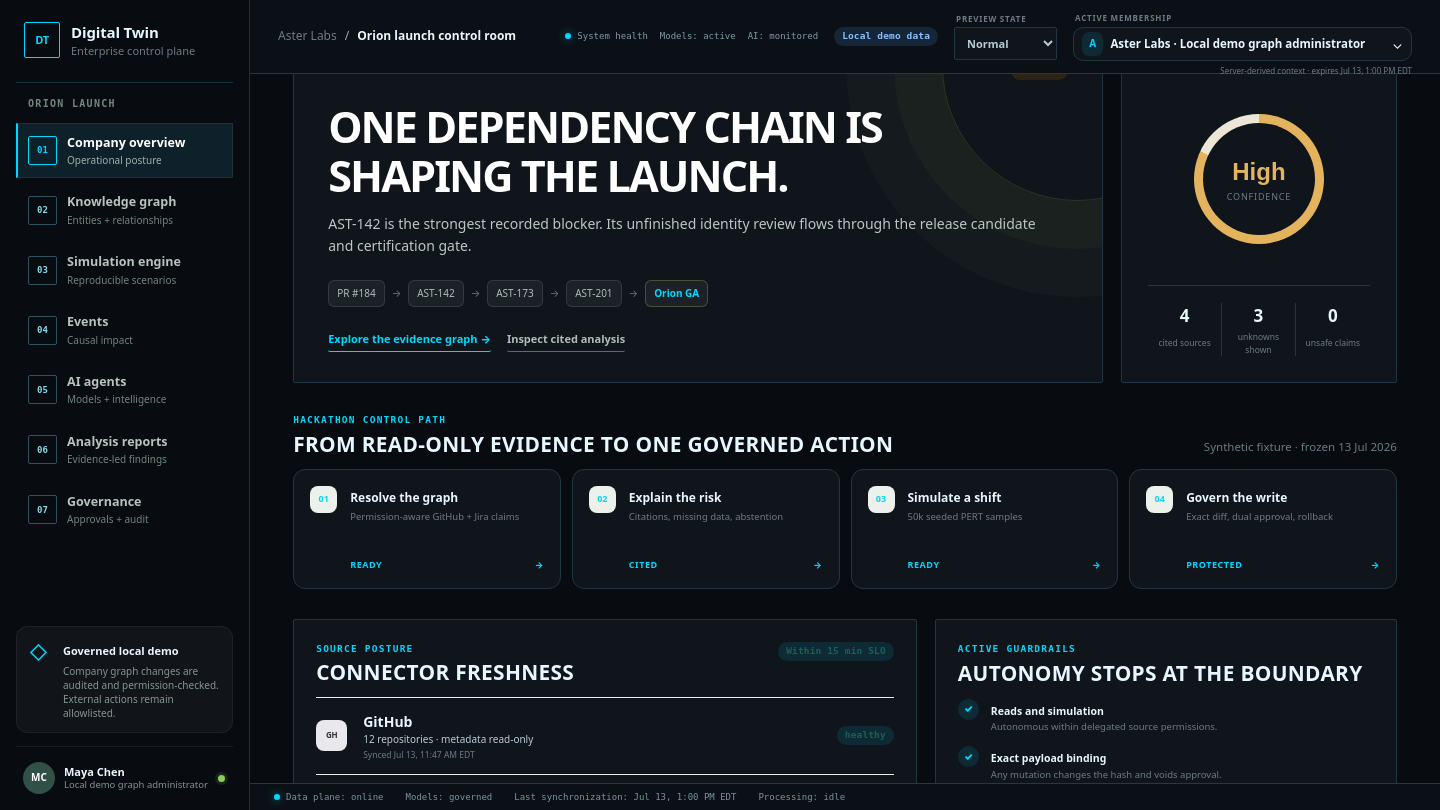
Test: DigitalTwinApp H1 journey › exposes deterministic loading, empty, error, stale, and revoked demo states
The width and height of the screenshot is (1440, 810).
(page scrolled)
Expected: the heading "One dependency chain is shaping the launch." is shown, [328, 97, 882, 206]
Step 1. Select "Empty" in the dropdown named "Preview interface state" → point(1006, 44), box [954, 27, 1057, 60]
(page scrolled)
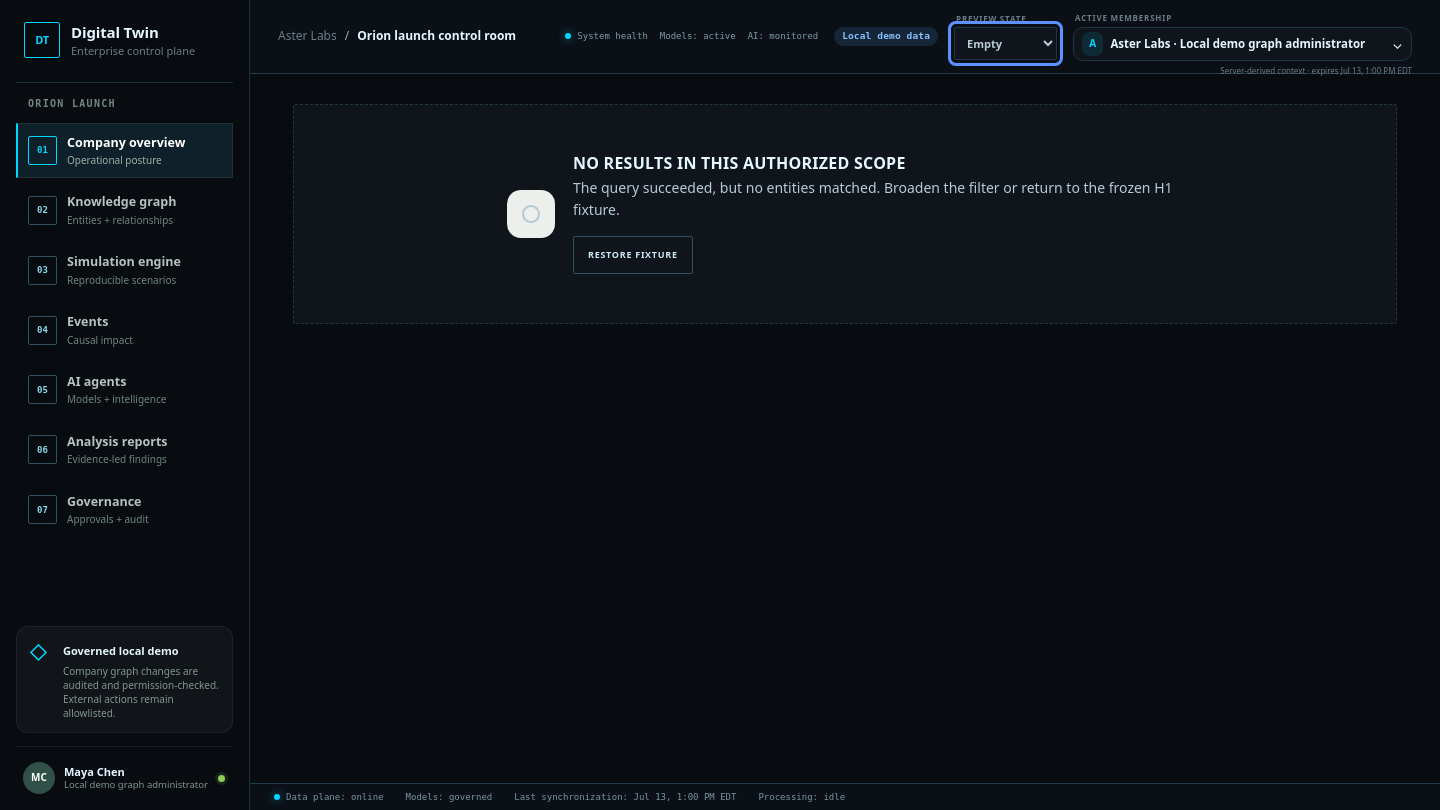
Expected: the heading "No results in this authorized scope" is shown, [573, 152, 906, 174]
Step 2. Select "Error" in the dropdown named "Preview interface state" → point(1006, 44), box [954, 27, 1057, 60]
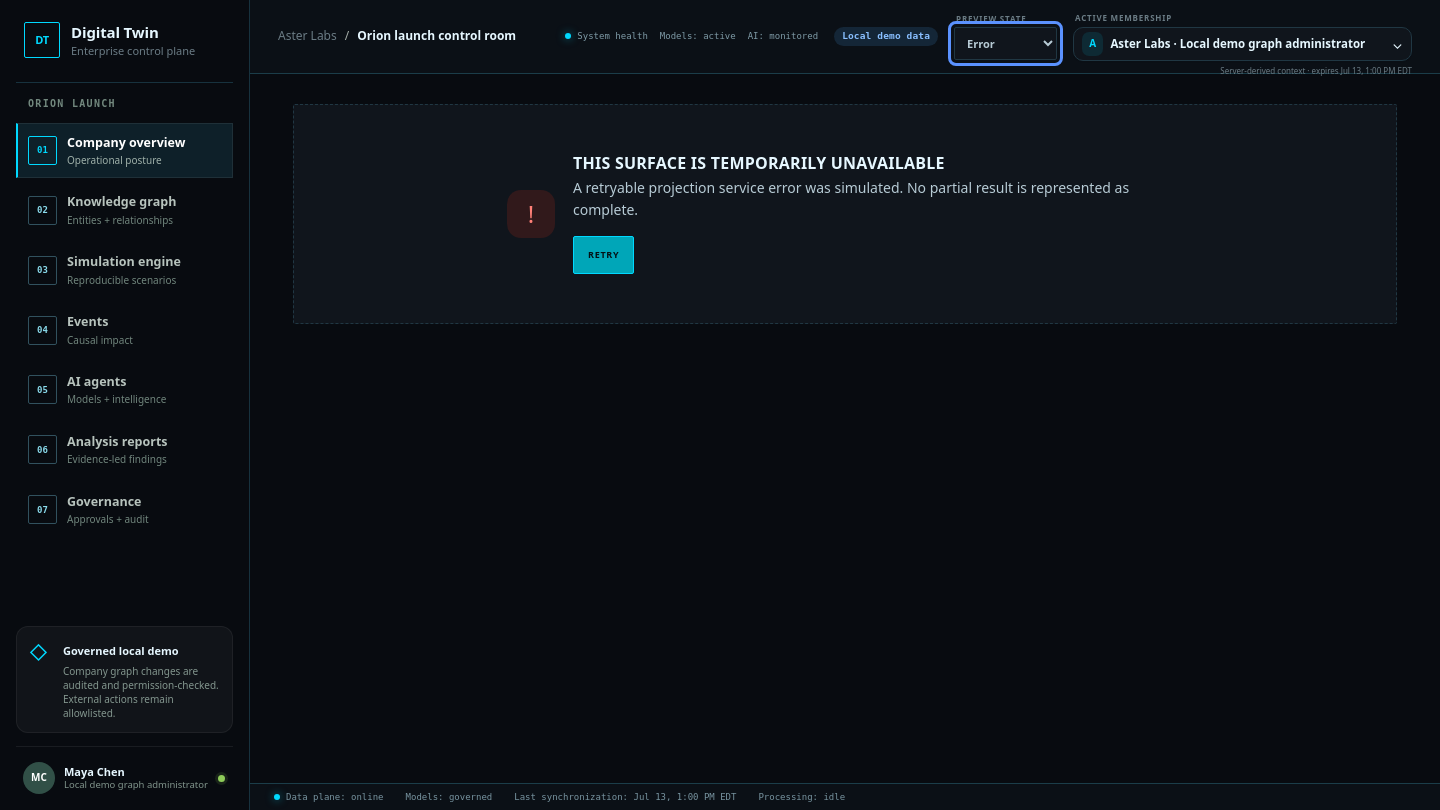
Expected: the heading "This surface is temporarily unavailable" is shown, [573, 152, 945, 174]
Step 3. Select "Stale" in the dropdown named "Preview interface state" → point(1006, 44), box [954, 27, 1057, 60]
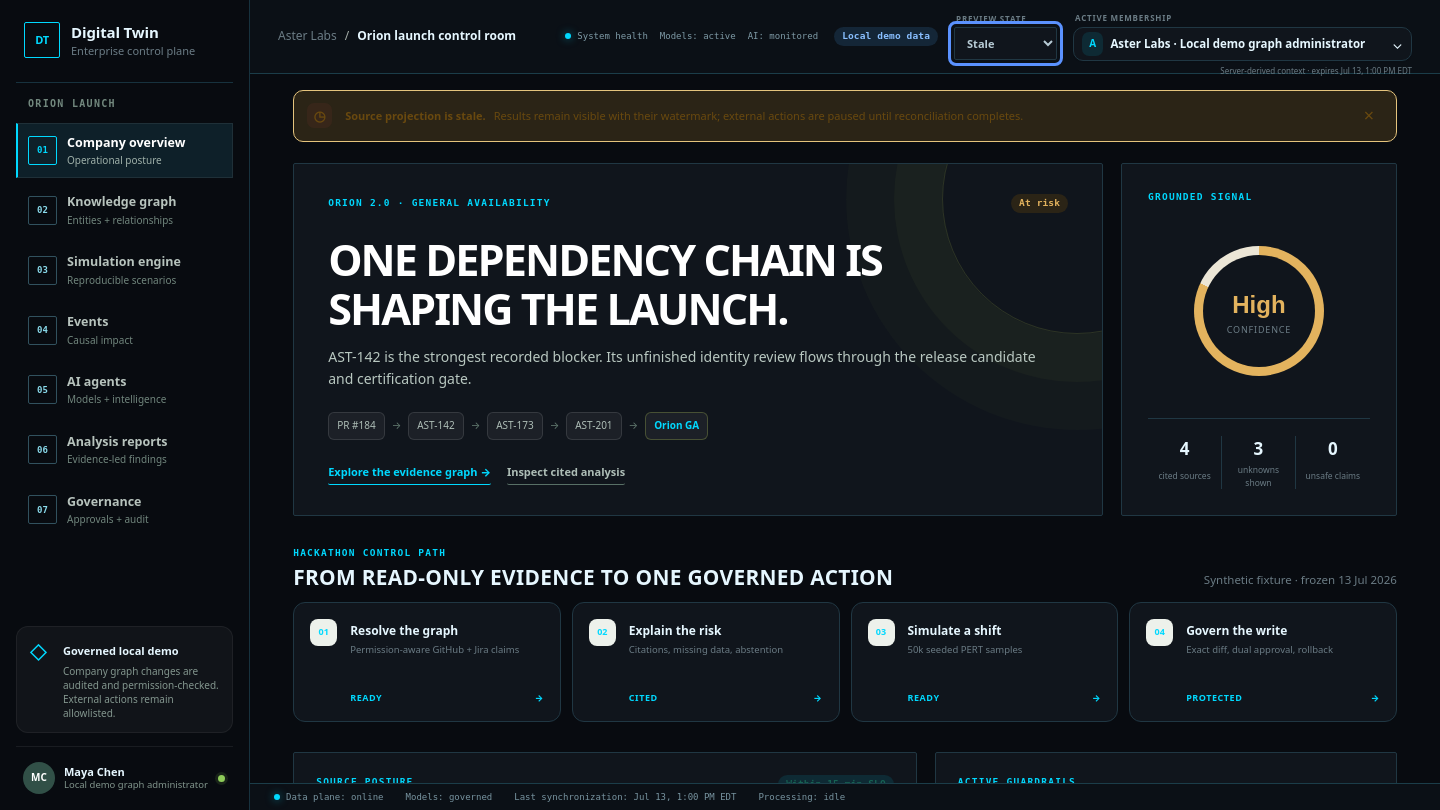
Expected: the text "Source projection is stale." is shown, [345, 107, 486, 124]
Step 4. Select "Revoked" in the dropdown named "Preview interface state" → point(1006, 44), box [954, 27, 1057, 60]
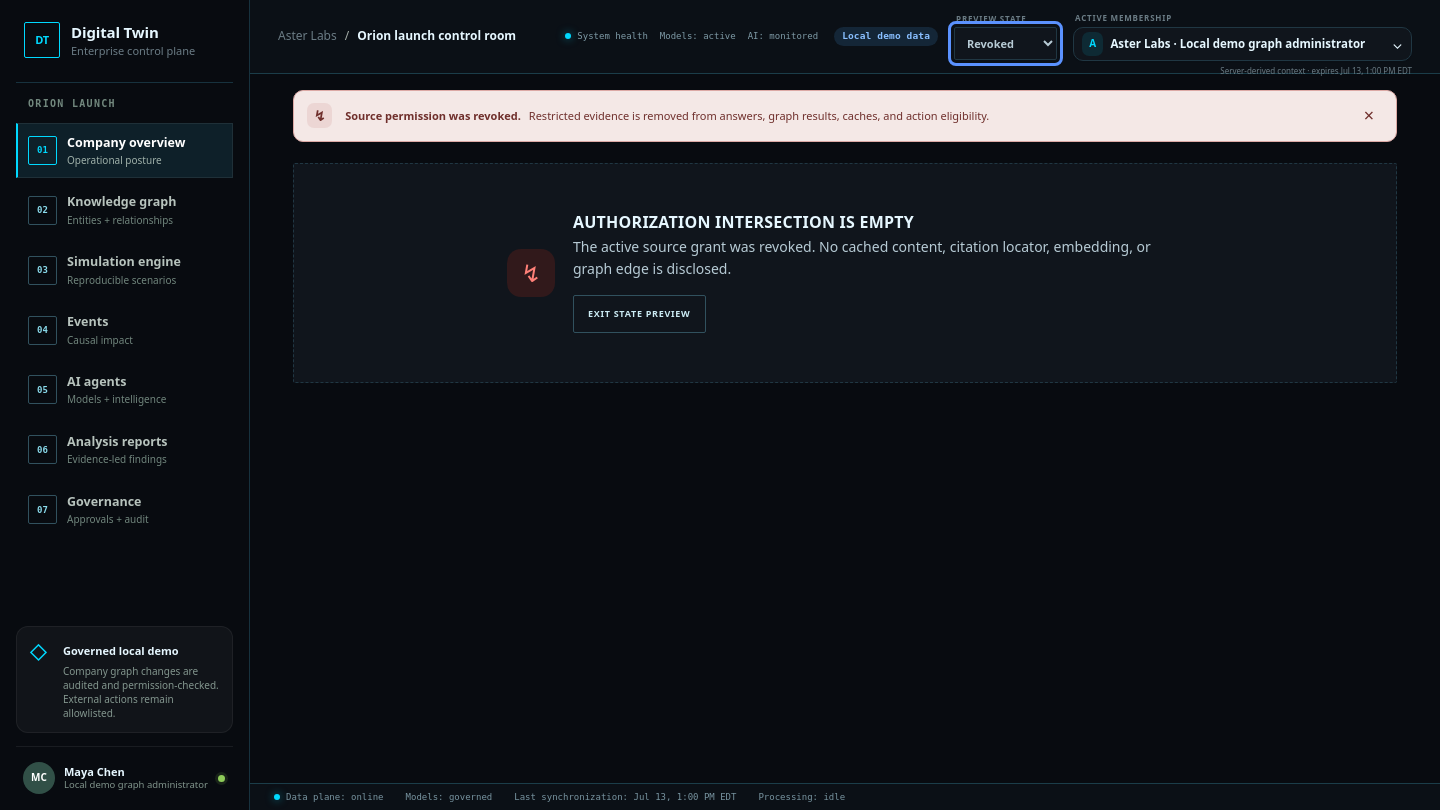
Expected: the heading "Authorization intersection is empty" is shown, [573, 210, 914, 232]
